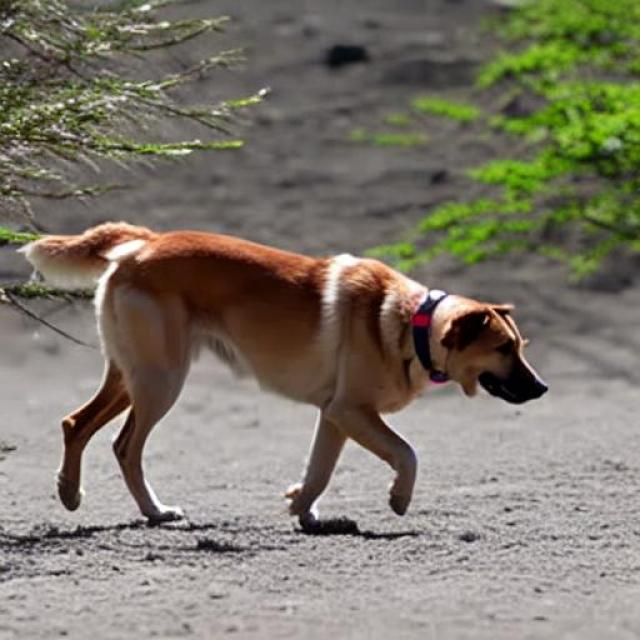Dog: (15, 220, 549, 528)
